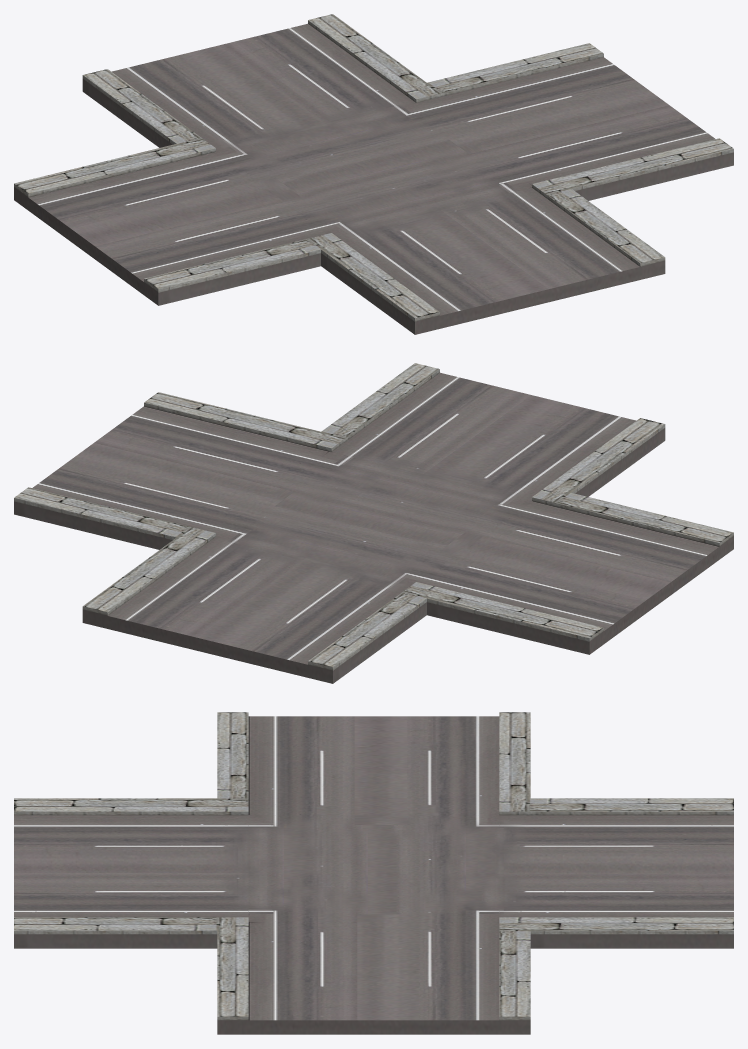
File: + Road(Large).FBX
The picture shows the model from 3 angles, top to bottom: view 1: azimuth 30°, elevation 25°; view 2: azimuth 150°, elevation 25°; view 3: azimuth 270°, elevation 25°; orthographic projection. The views are drawn at different scales.
Visible parts, largest first — view 1: + Road(Large); view 2: + Road(Large); view 3: + Road(Large).
Part boxes in pixels (box(x1,y1,x2,y2)): + Road(Large): box(14, 14, 733, 334); + Road(Large): box(14, 363, 733, 683); + Road(Large): box(14, 712, 733, 1034).
Bounding box in the file's own units: 2300 × 63.69 × 2300.
